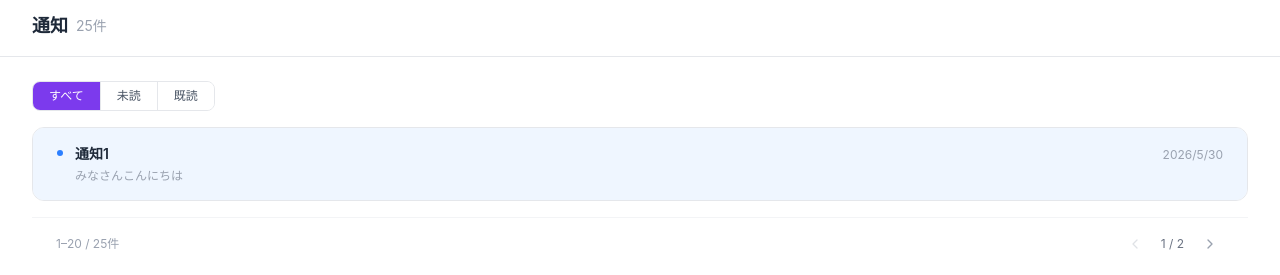
Test: NotificationsPage（一覧表示） › ページネーション: 21件以上ある場合はクリックでページが変わる
Expected: the text "通知1" is shown, [75,144,109,164]
Click the button named "次のページ": {"x": 1210, "y": 244} [1196,230,1224,258]
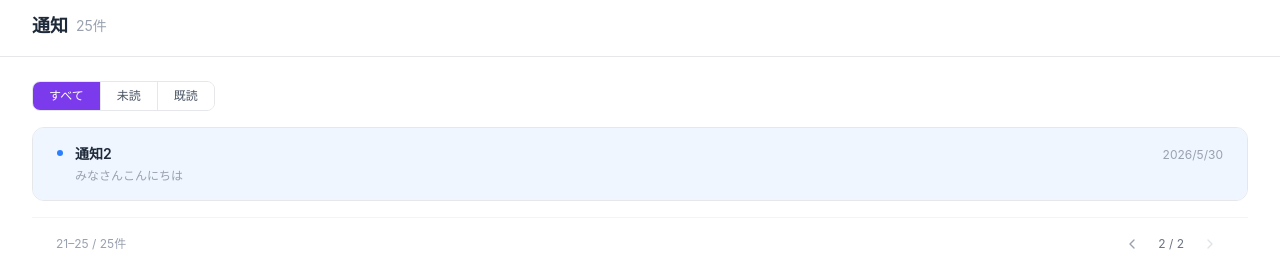
Expected: the text "通知2" is shown, [75,144,112,164]
